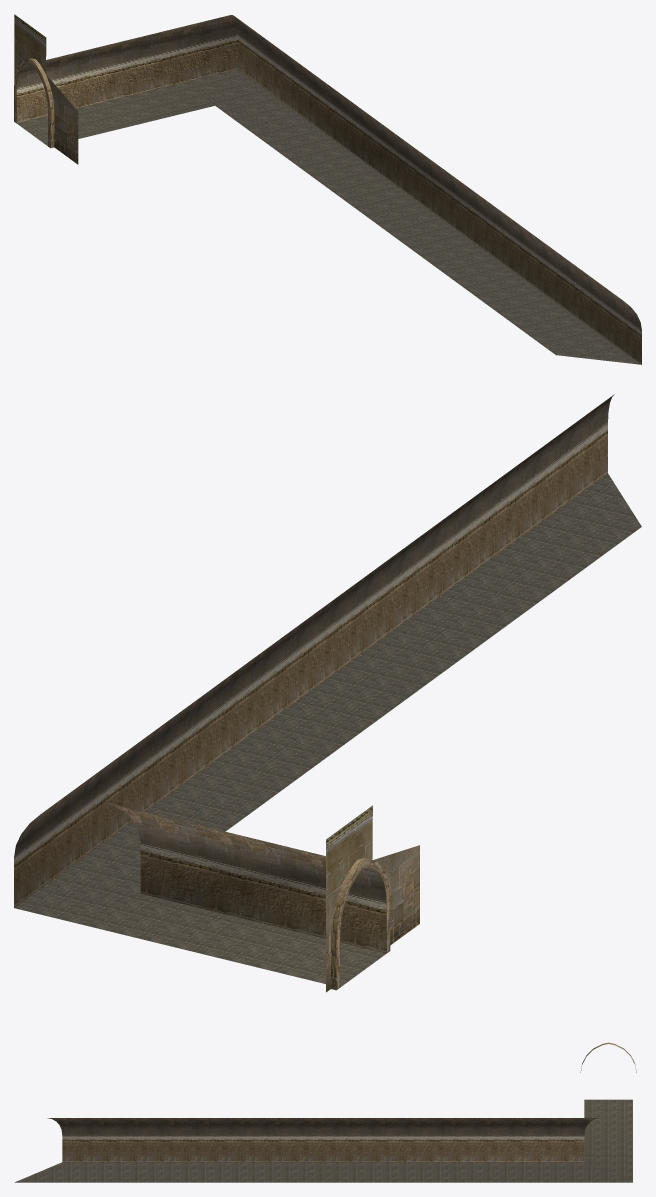
File: M7Z4_Tunnel_4A.glb
The picture shows the model from 3 angles, top to bottom: view 1: azimuth 30°, elevation 25°; view 2: azimuth 150°, elevation 25°; view 3: azimuth 270°, elevation 25°; orthographic projection. The views are drawn at different scales.
Visible parts, largest first — view 1: M7Z4_TUNNEL_4A; view 2: M7Z4_TUNNEL_4A; view 3: M7Z4_TUNNEL_4A.
Boxes of the visible parts, x1,y1,x2,y2 form: M7Z4_TUNNEL_4A: (14,14,641,364); M7Z4_TUNNEL_4A: (14,394,641,992); M7Z4_TUNNEL_4A: (14,1042,636,1182).
Size of the model in its own units: 12.01 by 5.39 by 38.44.
5 materials, 5 textured.
